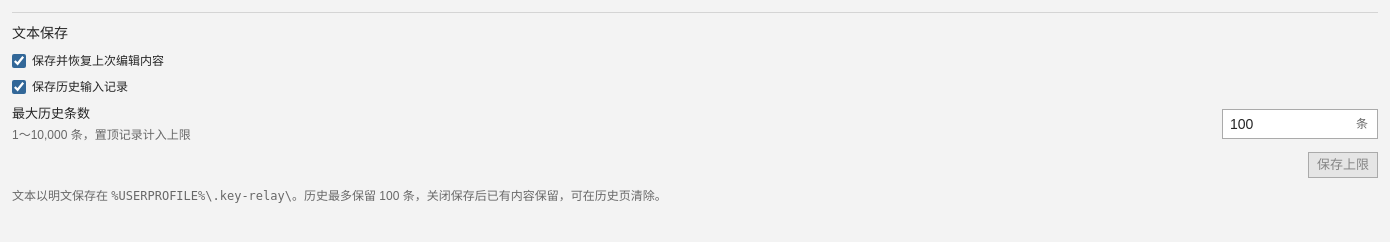
maximum history preference › rejects invalid limit  without a mutation
The image size is (1390, 242).
Clear the number field labelled "最大历史条数": (1288, 124) [1223,110,1352,138]
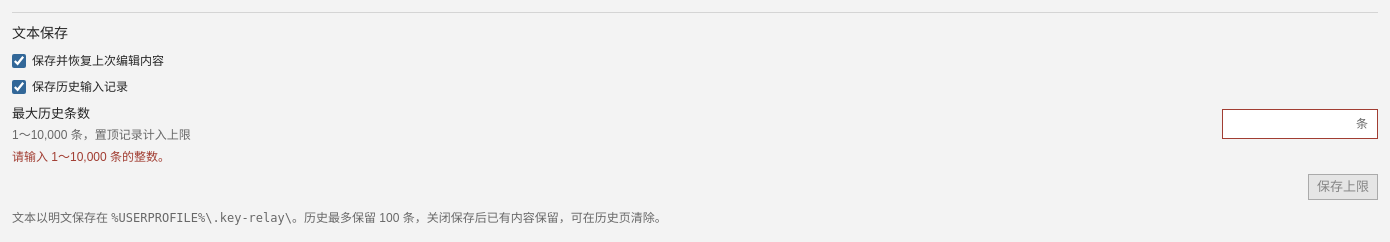
Expected: the button "保存上限" is disabled, [1308,174,1378,200]
Expected: the message shows "1～10,000", [12,150,170,164]
